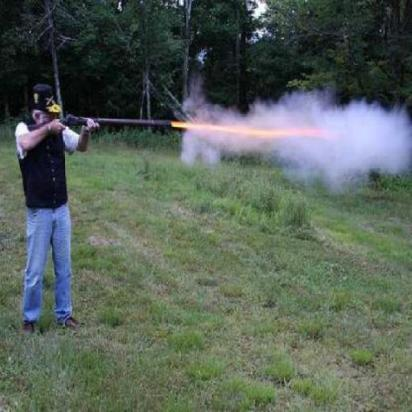Gun: (22, 109, 174, 145)
